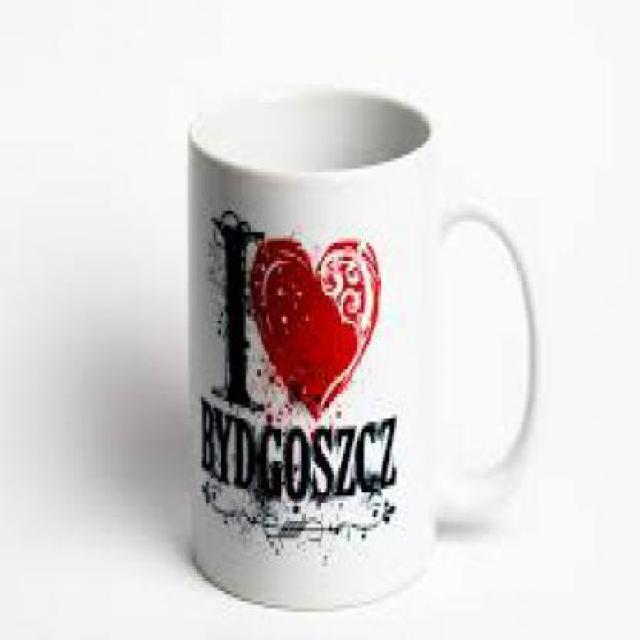cup: (177, 82, 548, 619)
